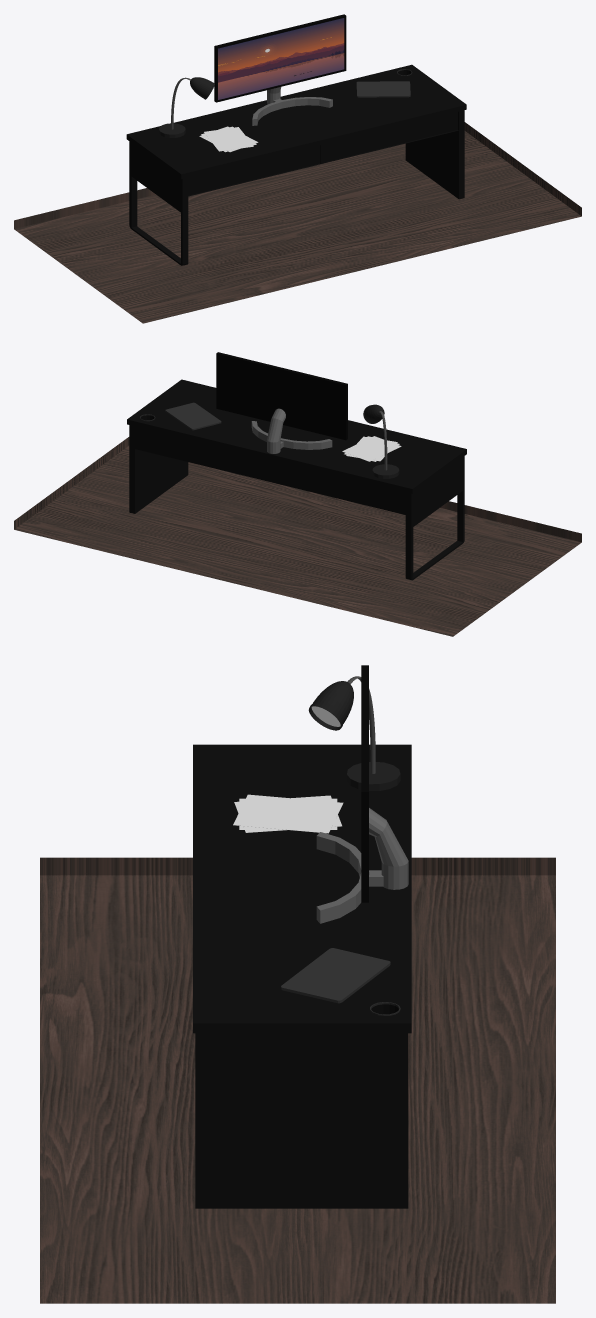
The model's file is Desktop.glb.
3 views of the same model, one above another, from view 1: azimuth 30°, elevation 25°; view 2: azimuth 150°, elevation 25°; view 3: azimuth 270°, elevation 25° (orthographic). The views are drawn at different scales.
Parts seen in each view (by area): view 1: Plane.003, Cube.002, minimalism-4k-for-mac-desktop-wallpaper-preview, Cube.006, Cube.007, Plane.006, Cylinder; view 2: Plane.003, Cube.002, Cube.006, Cube.007, Plane.006, Cylinder, Cylinder.001; view 3: Plane.003, Cube.002, Cube.007, Plane.006, Cube.006, Cylinder, Cylinder.001, Sphere.004, Cylinder.002.
Part boxes in pixels (x1=…): Plane.003: x1=14, y1=122, x2=581, y2=323; Cube.002: x1=126, y1=64, x2=466, y2=265; minimalism-4k-for-mac-desktop-wallpaper-preview: x1=218, y1=18, x2=344, y2=99; Cube.006: x1=214, y1=14, x2=346, y2=102; Cube.007: x1=356, y1=81, x2=410, y2=97; Plane.006: x1=204, y1=127, x2=253, y2=151; Cylinder: x1=252, y1=97, x2=332, y2=125; Plane.003: x1=14, y1=437, x2=581, y2=636; Cube.002: x1=127, y1=379, x2=466, y2=580; Cube.006: x1=216, y1=352, x2=347, y2=440; Cube.007: x1=165, y1=402, x2=221, y2=430; Plane.006: x1=342, y1=436, x2=401, y2=461; Cylinder: x1=251, y1=421, x2=332, y2=449; Cylinder.001: x1=267, y1=408, x2=285, y2=453; Plane.003: x1=40, y1=857, x2=555, y2=1303; Cube.002: x1=193, y1=744, x2=411, y2=1208; Cube.007: x1=281, y1=948, x2=390, y2=1003; Plane.006: x1=233, y1=794, x2=343, y2=833; Cube.006: x1=361, y1=665, x2=368, y2=902; Cylinder: x1=316, y1=832, x2=369, y2=923; Cylinder.001: x1=369, y1=808, x2=408, y2=889; Sphere.004: x1=308, y1=681, x2=353, y2=730; Cylinder.002: x1=347, y1=762, x2=400, y2=790.
Size of the model in its own units: 7.8 by 3.06 by 3.97.
Materials: 14 (2 with a texture image).
